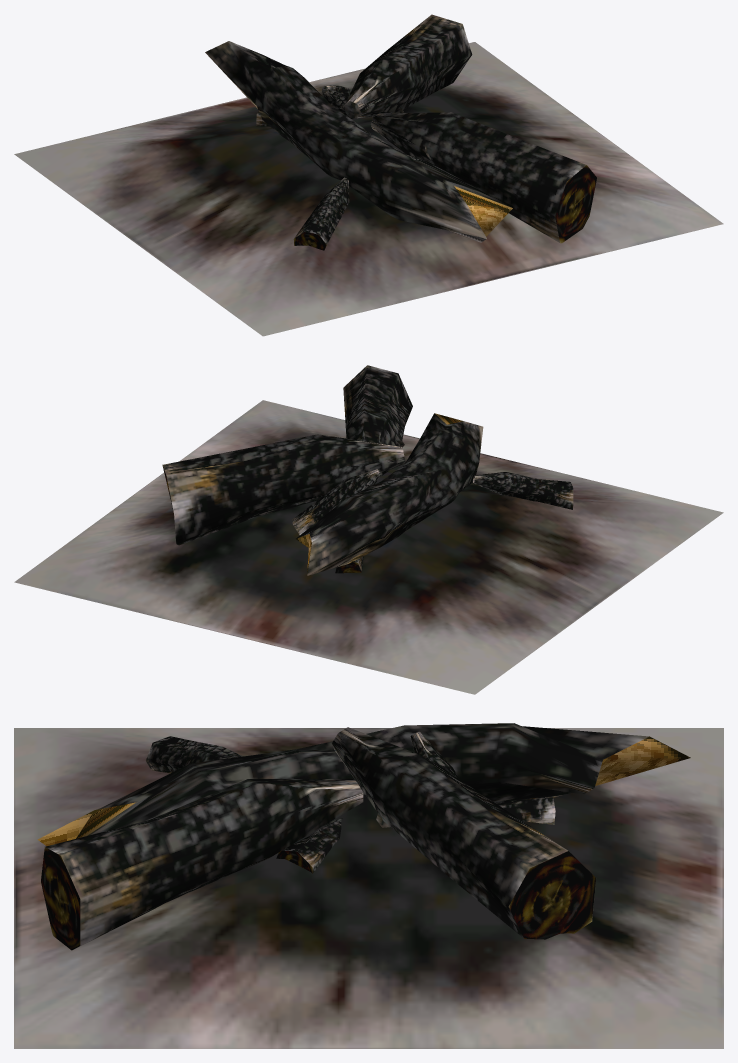
The model's file is INST_MIRK_CAMPFIRE_MIRKWOOD.obj.
3 renders of one model, top to bottom at view 1: azimuth 30°, elevation 25°; view 2: azimuth 150°, elevation 25°; view 3: azimuth 270°, elevation 25°, orthographic. The views are drawn at different scales.
Visible parts, largest first — view 1: Plane02, Cylinder01, Object06, Object05, Object03, Object02; view 2: Plane02, Object05, Cylinder01, Object06, Object03, Object02; view 3: Plane02, Object06, Object05, Cylinder01, Object03, Object04, Object01, Object02.
Part boxes in pixels (left/top/right/bottom): Plane02: left=14, top=42, right=723, bottom=336; Cylinder01: left=205, top=41, right=512, bottom=242; Object06: left=370, top=112, right=596, bottom=243; Object05: left=344, top=14, right=472, bottom=118; Object03: left=293, top=177, right=349, bottom=250; Object02: left=322, top=85, right=353, bottom=118; Plane02: left=14, top=400, right=723, bottom=694; Object05: left=162, top=434, right=405, bottom=545; Cylinder01: left=296, top=413, right=483, bottom=575; Object06: left=343, top=365, right=412, bottom=475; Object03: left=473, top=472, right=573, bottom=509; Object02: left=292, top=469, right=382, bottom=534; Plane02: left=14, top=728, right=723, bottom=1048; Object06: left=41, top=778, right=363, bottom=950; Object05: left=332, top=727, right=596, bottom=939; Cylinder01: left=37, top=723, right=690, bottom=846; Object03: left=146, top=736, right=242, bottom=773; Object04: left=276, top=818, right=342, bottom=873; Object01: left=495, top=797, right=555, bottom=824; Object02: left=410, top=731, right=459, bottom=779.
Size of the model in its own units: 539 by 123 by 505.
